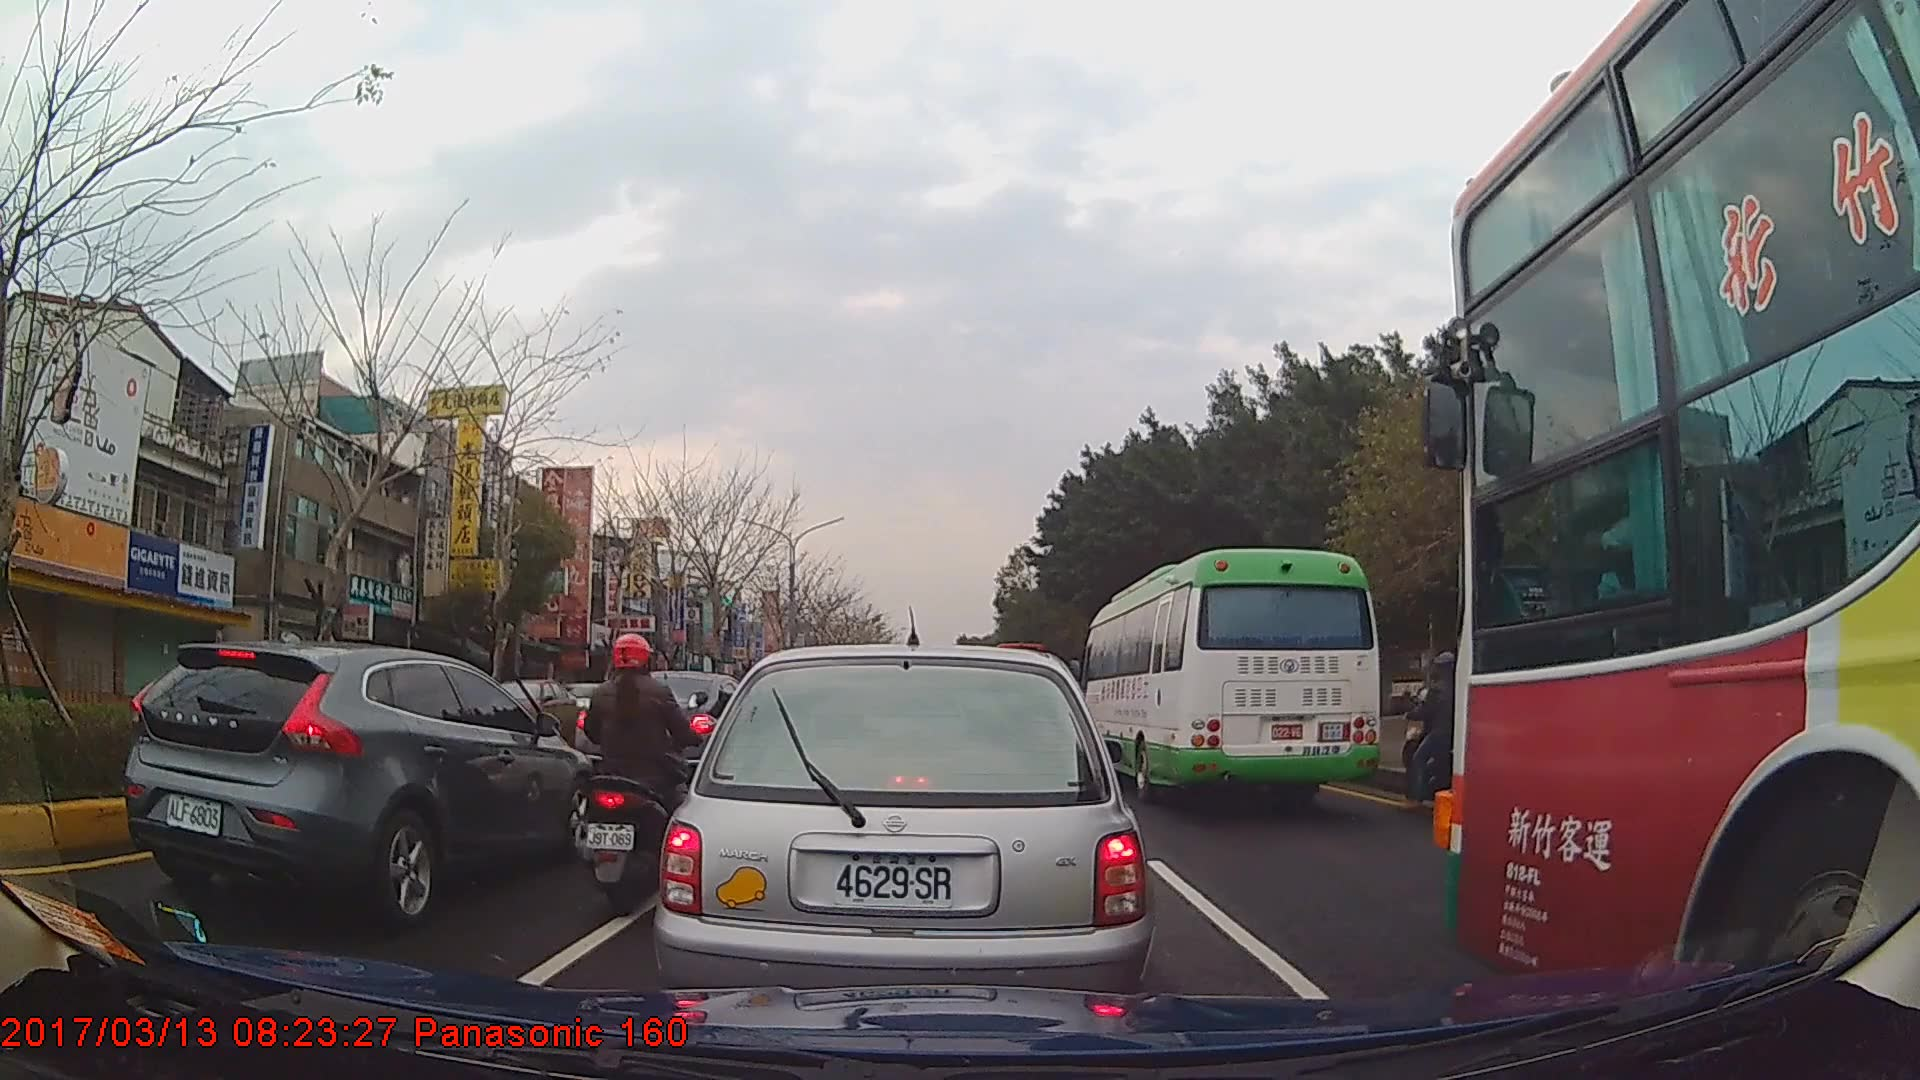rider: (581, 629, 708, 906), (1403, 653, 1492, 811)
vehicle: (1442, 0, 1920, 1030), (657, 642, 1155, 1041), (119, 642, 597, 922), (1078, 545, 1380, 806), (582, 668, 759, 787), (480, 677, 575, 732)
